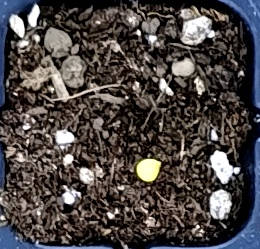pepper seed: (55, 66, 217, 249)
